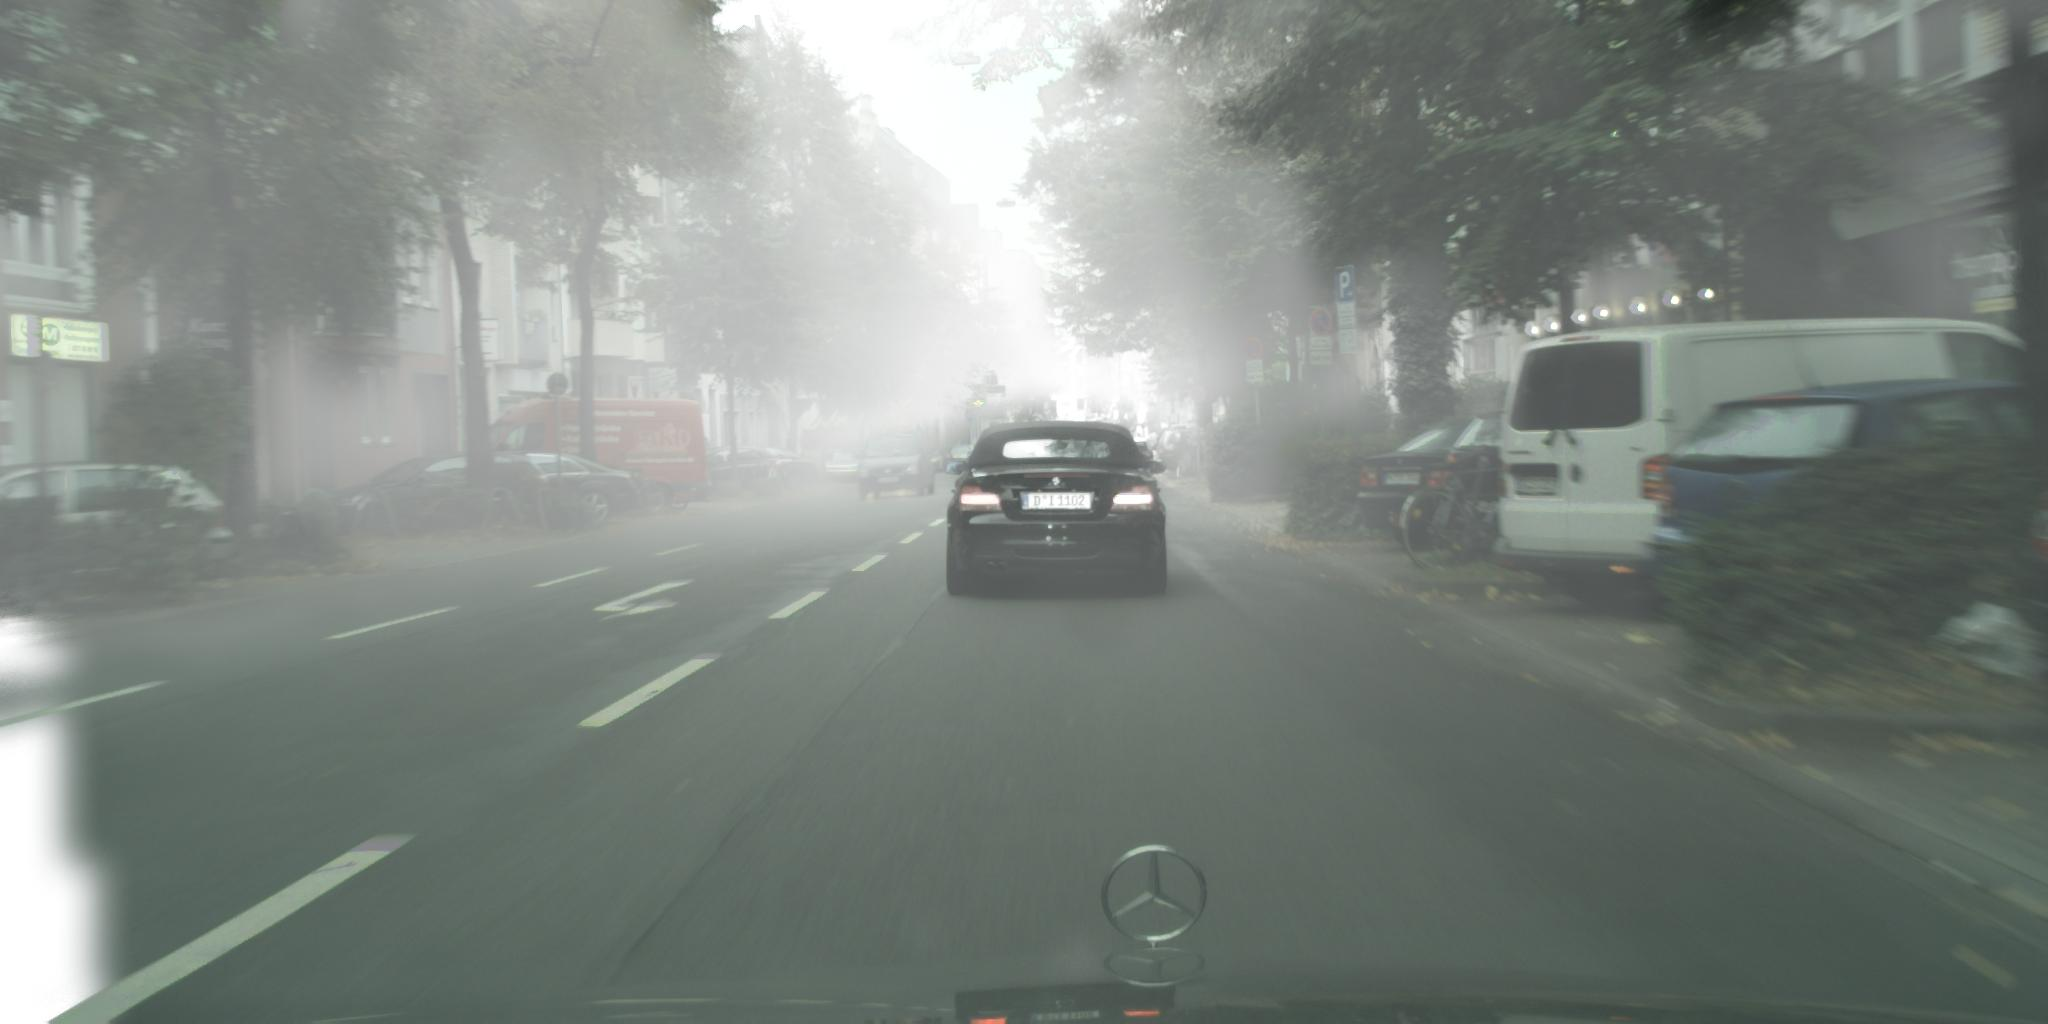bicycle: (1399, 465, 1537, 575), (609, 453, 666, 513)
car: (1492, 317, 2048, 609), (1651, 379, 2048, 600), (943, 421, 1170, 598), (1, 462, 239, 590), (492, 394, 717, 513), (325, 451, 551, 537), (1357, 417, 1482, 549), (494, 452, 644, 528), (1442, 408, 1529, 536), (858, 430, 936, 502), (704, 445, 788, 495), (760, 448, 823, 492), (1152, 428, 1208, 472), (819, 449, 867, 486), (943, 447, 982, 469), (1130, 438, 1155, 469), (926, 448, 950, 474)
